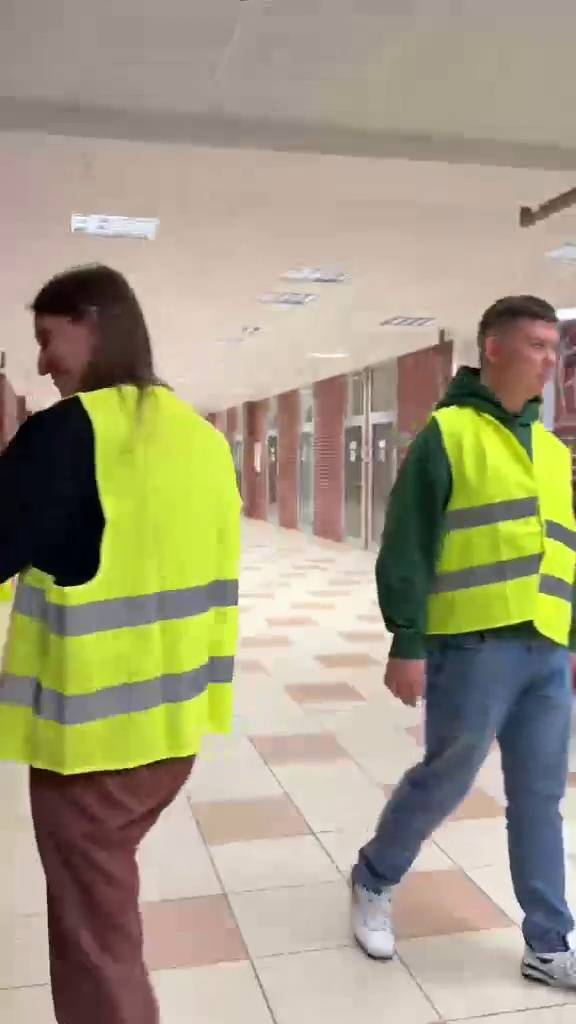vest: (0, 259, 250, 996), (377, 288, 576, 975)
